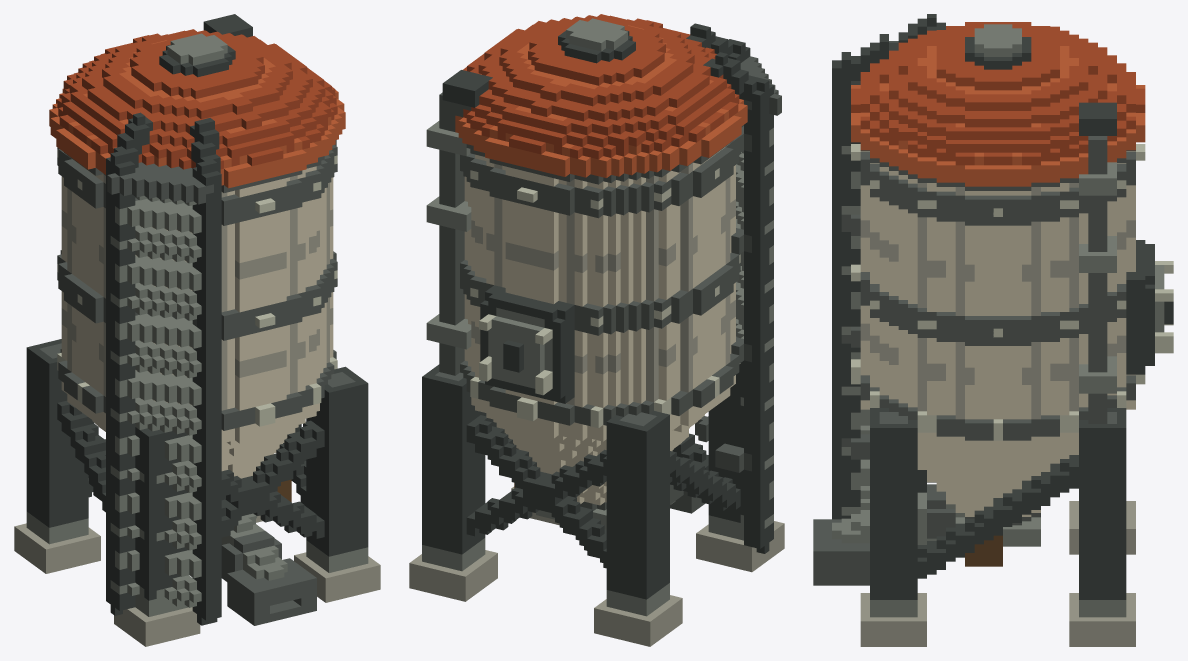
Rendered from silo.glb.
The picture shows the model from 3 angles, left to right: view 1: azimuth 30°, elevation 25°; view 2: azimuth 150°, elevation 25°; view 3: azimuth 270°, elevation 25°; orthographic projection. The views are drawn at different scales.
Parts seen in each view (by area): view 1: silo; view 2: silo; view 3: silo.
Boxes of the visible parts, box(x1,y1,x2,y2) form: silo: box(14, 14, 380, 646); silo: box(409, 14, 784, 646); silo: box(813, 14, 1173, 646).
Size of the model in its own units: 3.63 by 7.04 by 4.18.
